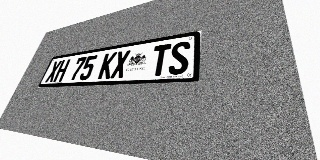5: (78, 55, 98, 80)
7: (68, 56, 87, 81)
H: (53, 59, 71, 82)
K: (97, 52, 117, 79)
S: (168, 40, 191, 75)
T: (149, 43, 171, 76)
X: (110, 50, 131, 79), (45, 60, 62, 83)
